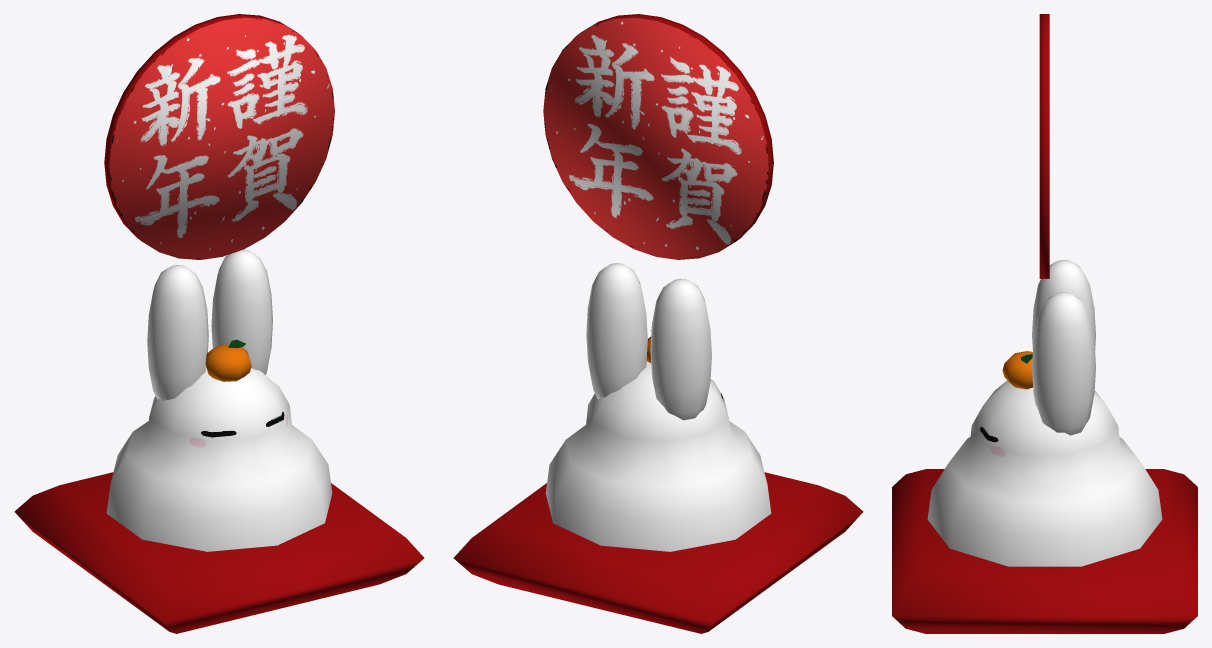
File: mikan_rotation.glb
3 renders of one model, left to right at view 1: azimuth 30°, elevation 25°; view 2: azimuth 150°, elevation 25°; view 3: azimuth 270°, elevation 25°, orthographic.
Parts seen in each view (by area): view 1: Circle.001, Circle.004, Circle, Circle.005, Circle.006; view 2: Circle.001, Circle, Circle.004, Circle.005; view 3: Circle, Circle.004, Circle.005, Circle.001, Circle.006.
Boxes of the visible parts, box(x1,y1,x2,y2) form: Circle.001: box(104, 14, 334, 259); Circle.004: box(106, 368, 332, 551); Circle: box(14, 472, 424, 633); Circle.005: box(147, 249, 272, 400); Circle.006: box(205, 344, 251, 381); Circle.001: box(543, 14, 773, 259); Circle: box(453, 472, 863, 633); Circle.004: box(545, 361, 771, 551); Circle.005: box(586, 263, 711, 420); Circle: box(892, 469, 1197, 633); Circle.004: box(927, 380, 1162, 566); Circle.005: box(1032, 260, 1095, 435); Circle.001: box(1039, 14, 1049, 278); Circle.006: box(1002, 351, 1032, 389).
Size of the model in its own units: 228 by 458 by 228.
Materials: 6 (2 with a texture image).
